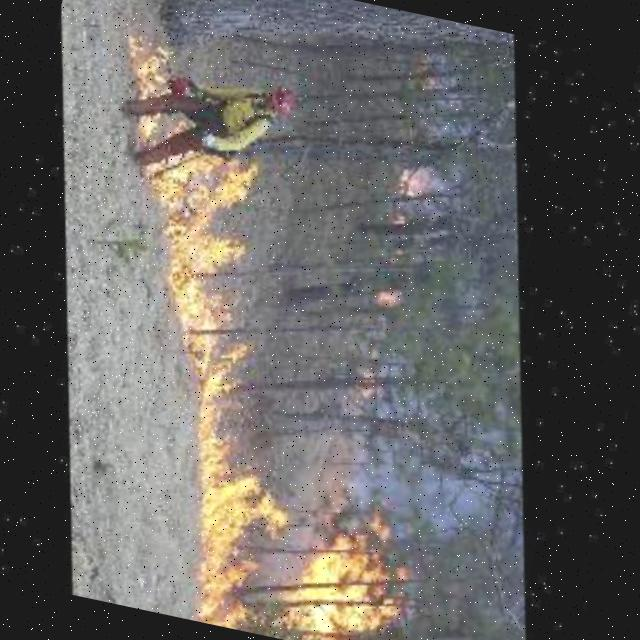fire: (33, 0, 374, 499), (158, 421, 460, 640), (381, 159, 439, 233), (367, 279, 405, 313), (349, 365, 383, 401)
